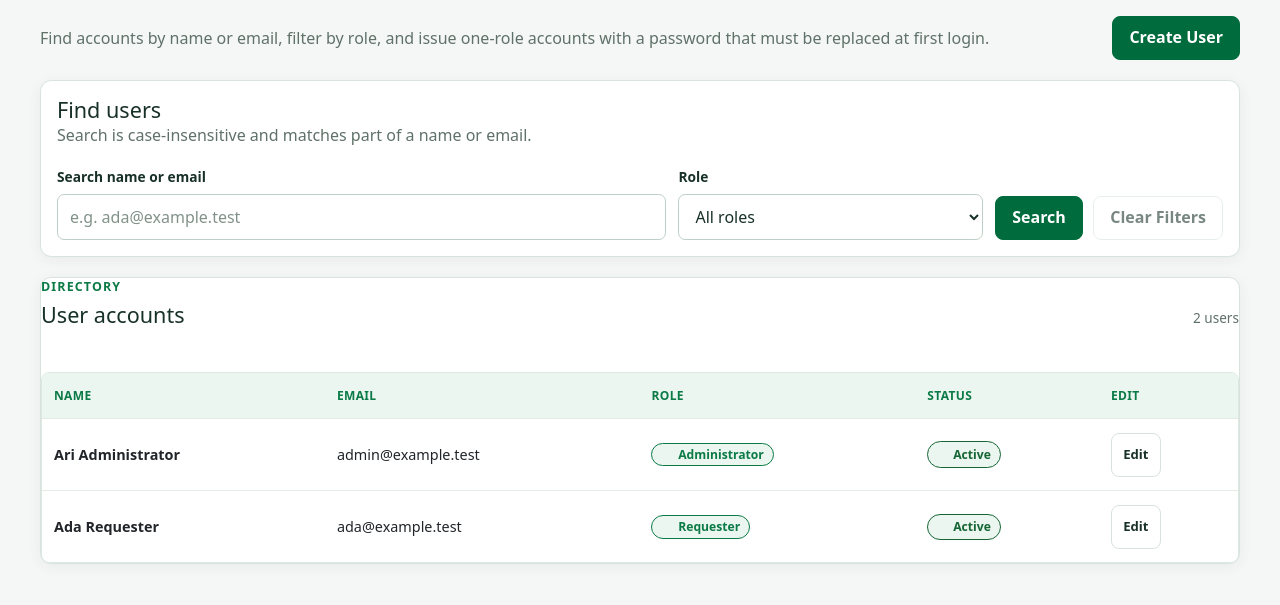
Test case: Administrator user management › keeps edit values after a duplicate email conflict
The width and height of the screenshot is (1280, 605).
(page scrolled)
Click the button with aria-label "Edit Ada Requester": (1136, 527) [1111,505,1161,549]
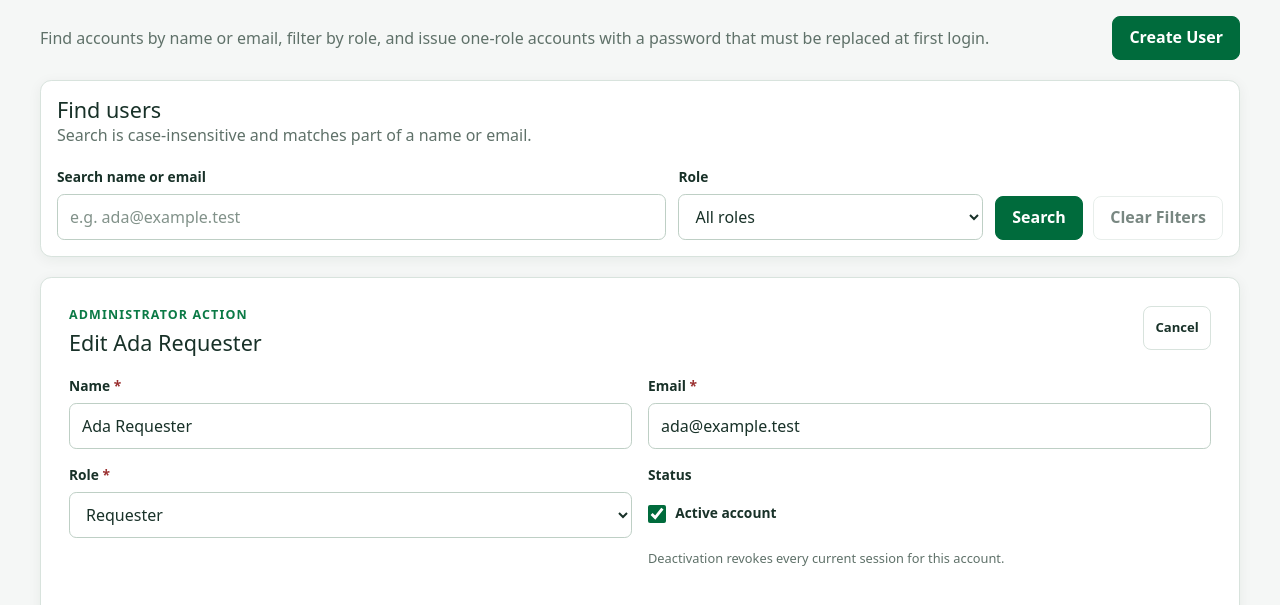
Result: the field showing "Ada Requester" is shown
Replace the text in the field showing "Ada Requester" with "Ada Kept": (350, 426) [69,403,632,449]
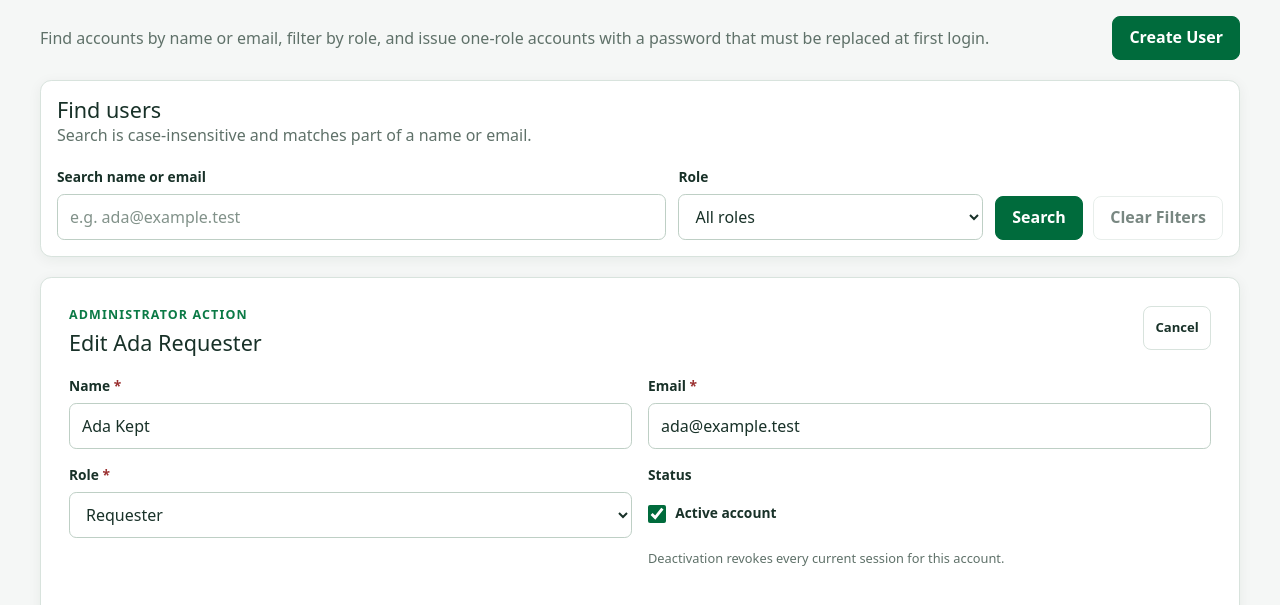
Replace the text in the field showing "ada@example.test" with "duplicate@example.test": (930, 426) [648,403,1211,449]
(page scrolled)
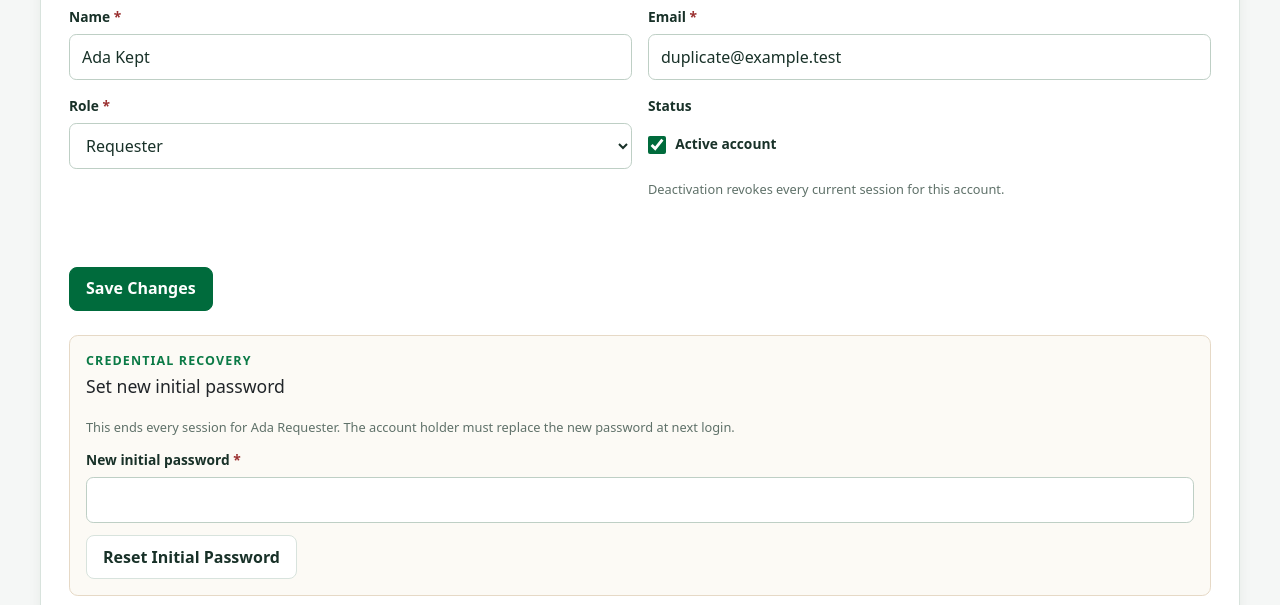
Click the button "Save Changes": (141, 289) [69,267,213,311]
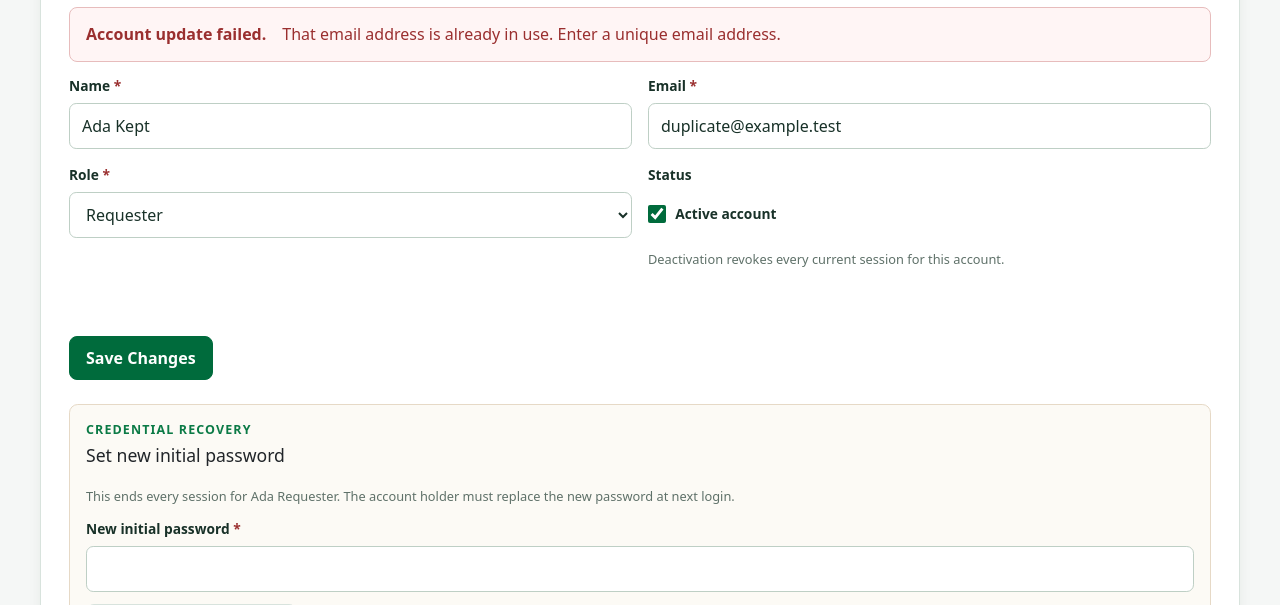
Result: the text "That email address is already in use. Enter a unique email address." is shown at [282,23,781,45]
